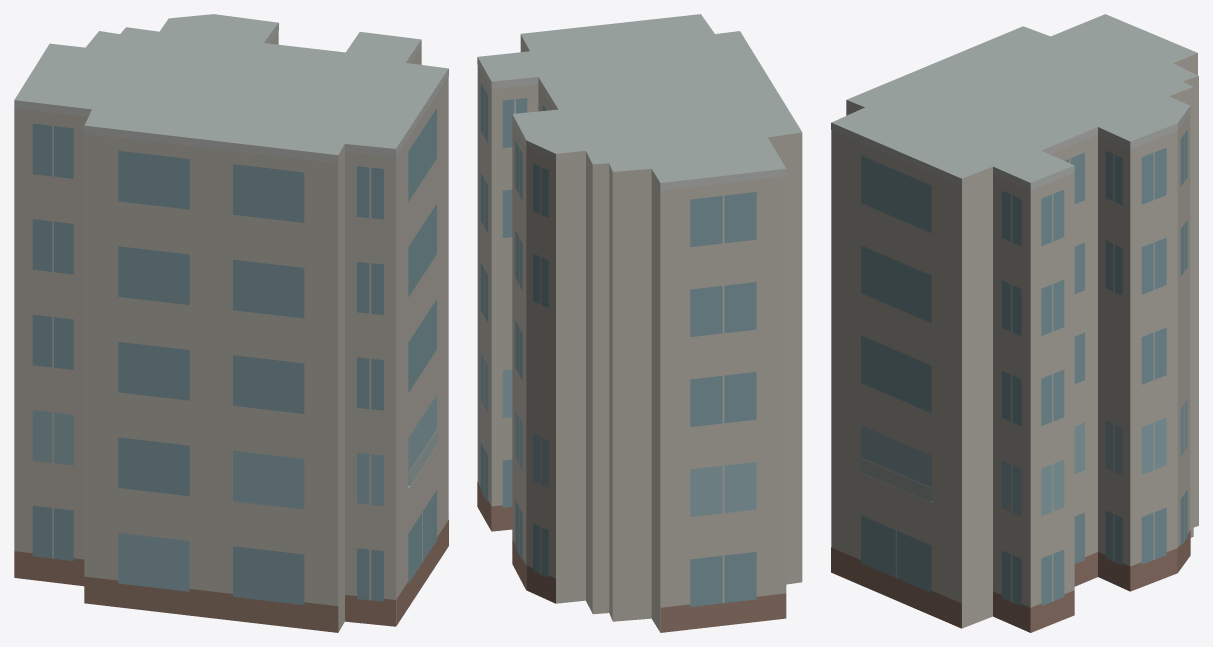
Rendered from survey-upis-32658112.glb.
The picture shows the model from 3 angles, left to right: view 1: azimuth 30°, elevation 25°; view 2: azimuth 150°, elevation 25°; view 3: azimuth 270°, elevation 25°; orthographic projection. The views are drawn at different scales.
Parts seen in each view (by area): view 1: survey-upis-32658112.tmp; view 2: survey-upis-32658112.tmp; view 3: survey-upis-32658112.tmp.
Part boxes in pixels (x1,y1,x2,y2): survey-upis-32658112.tmp: (14,14,448,632); survey-upis-32658112.tmp: (477,14,802,632); survey-upis-32658112.tmp: (831,14,1198,632).
Bounding box in the file's own units: 11.69 × 14.5 × 10.74.
